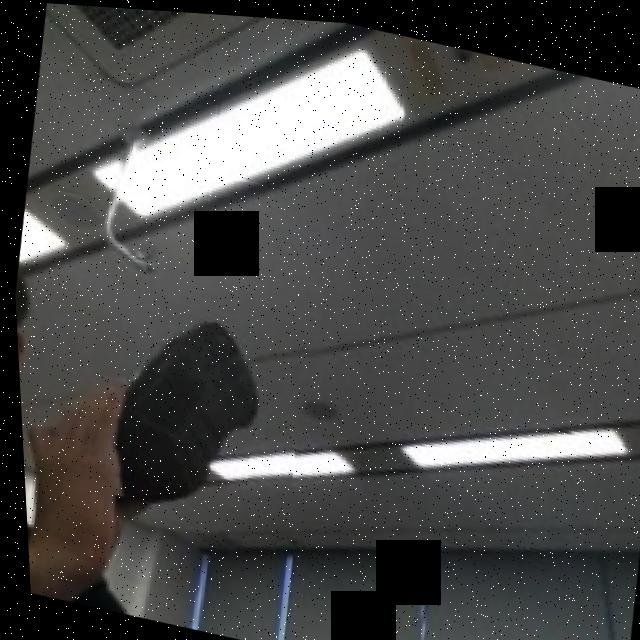shoe: (65, 268, 315, 532)
